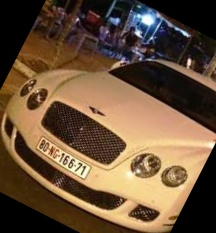plate: (32, 134, 92, 182)
